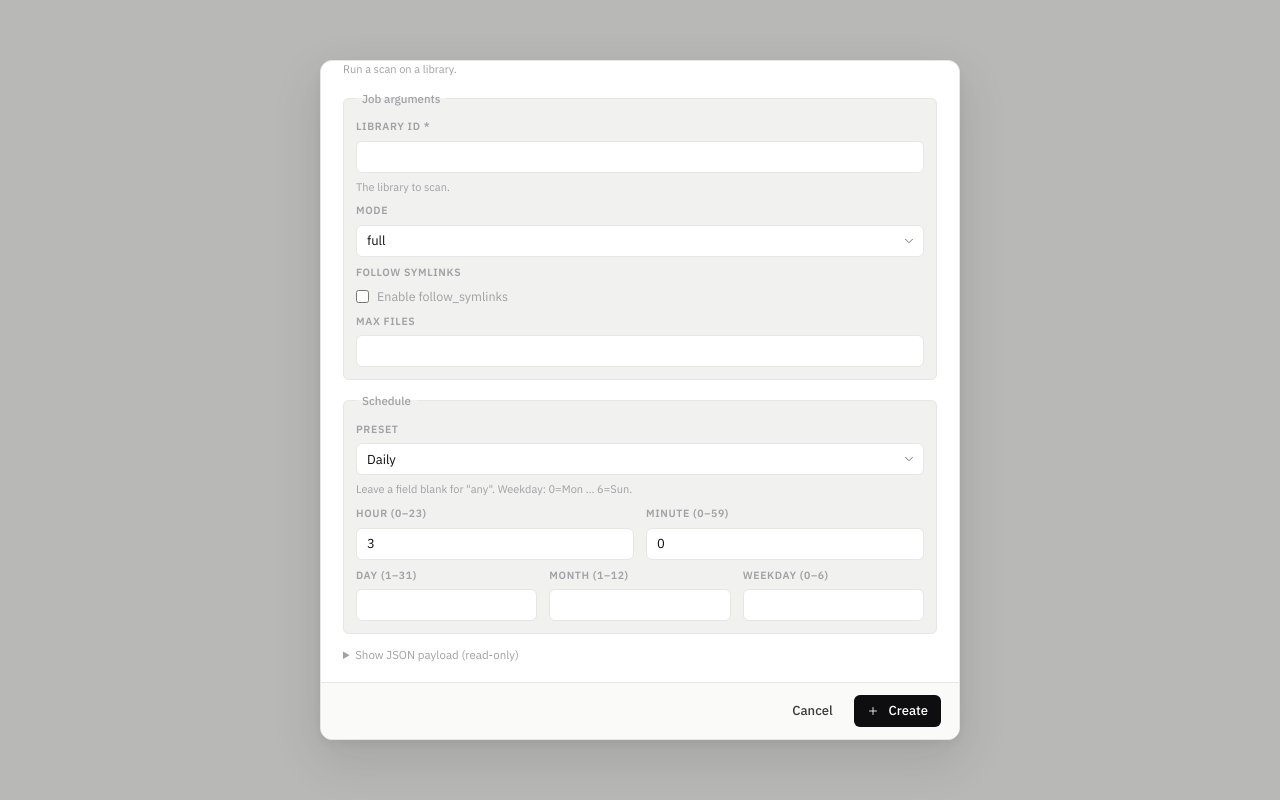
Stage 9 — AutomationScheduleDialog form › editing any cron field flips the preset to custom
(page scrolled)
Expected: the dropdown labelled "Preset" shows "Daily", [356,443,924,475]
Replace the text in the number field labelled "Hour (0–23)" with "5" at [495, 544], box [356,528,634,560]
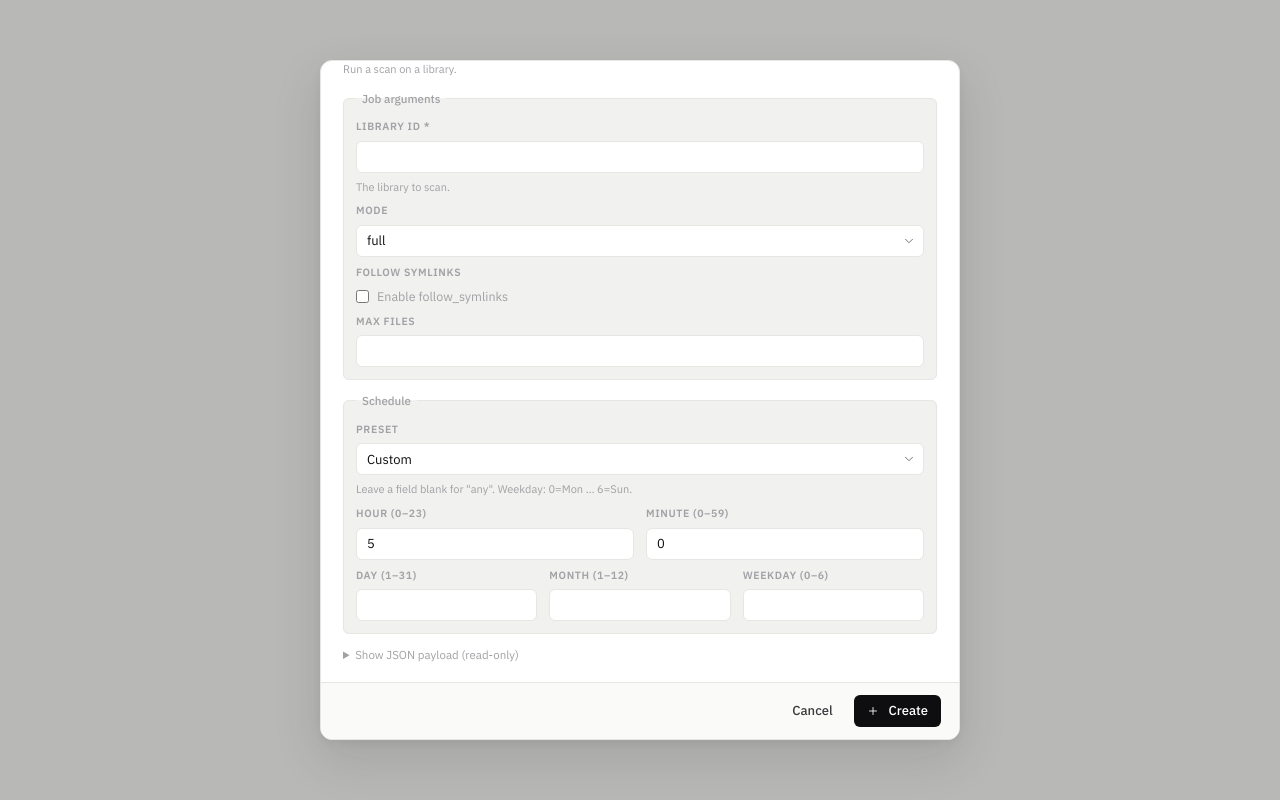
Expected: the dropdown labelled "Preset" shows "Custom", [356,443,924,475]
